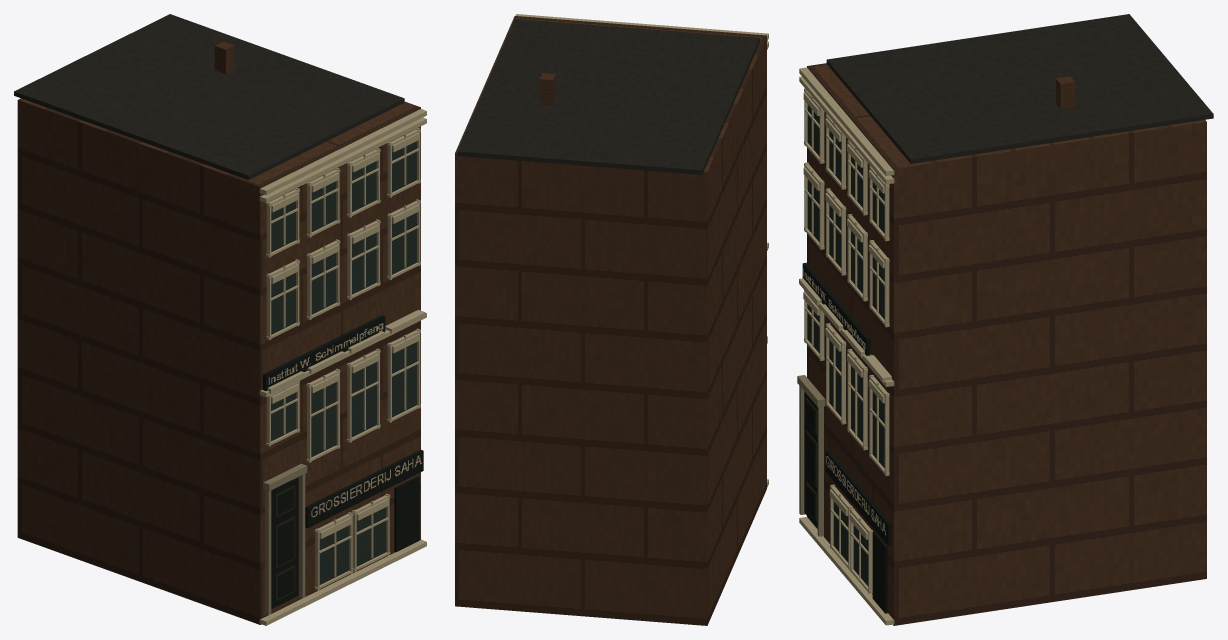
3 views of the same model, side by side, from view 1: azimuth 30°, elevation 25°; view 2: azimuth 150°, elevation 25°; view 3: azimuth 270°, elevation 25° (orthographic). The views are drawn at different scales.
Parts seen in each view (by area): view 1: nieuwehaven163-0, nieuwehaven163-6, nieuwehaven163-2, nieuwehaven163-1, nieuwehaven163-3, nieuwehaven163-4, nieuwehaven163-5; view 2: nieuwehaven163-0, nieuwehaven163-6, nieuwehaven163-2; view 3: nieuwehaven163-0, nieuwehaven163-6, nieuwehaven163-2, nieuwehaven163-1, nieuwehaven163-3, nieuwehaven163-4.
Part boxes in pixels (x1,y1,x2,y2): nieuwehaven163-0: [17, 41, 420, 624]; nieuwehaven163-6: [14, 14, 404, 179]; nieuwehaven163-2: [259, 108, 426, 625]; nieuwehaven163-1: [271, 141, 416, 584]; nieuwehaven163-3: [263, 315, 423, 608]; nieuwehaven163-4: [263, 463, 307, 615]; nieuwehaven163-5: [275, 485, 295, 601]; nieuwehaven163-0: [455, 16, 766, 625]; nieuwehaven163-6: [457, 19, 759, 174]; nieuwehaven163-2: [515, 14, 768, 487]; nieuwehaven163-0: [807, 63, 1206, 625]; nieuwehaven163-6: [826, 14, 1213, 163]; nieuwehaven163-2: [799, 67, 894, 625]; nieuwehaven163-1: [807, 105, 889, 586]; nieuwehaven163-3: [802, 262, 891, 613]; nieuwehaven163-4: [797, 375, 825, 536].
Bounding box in the file's own units: 12.91 × 19.43 × 15.03.
Materials: 7 (7 with a texture image).
